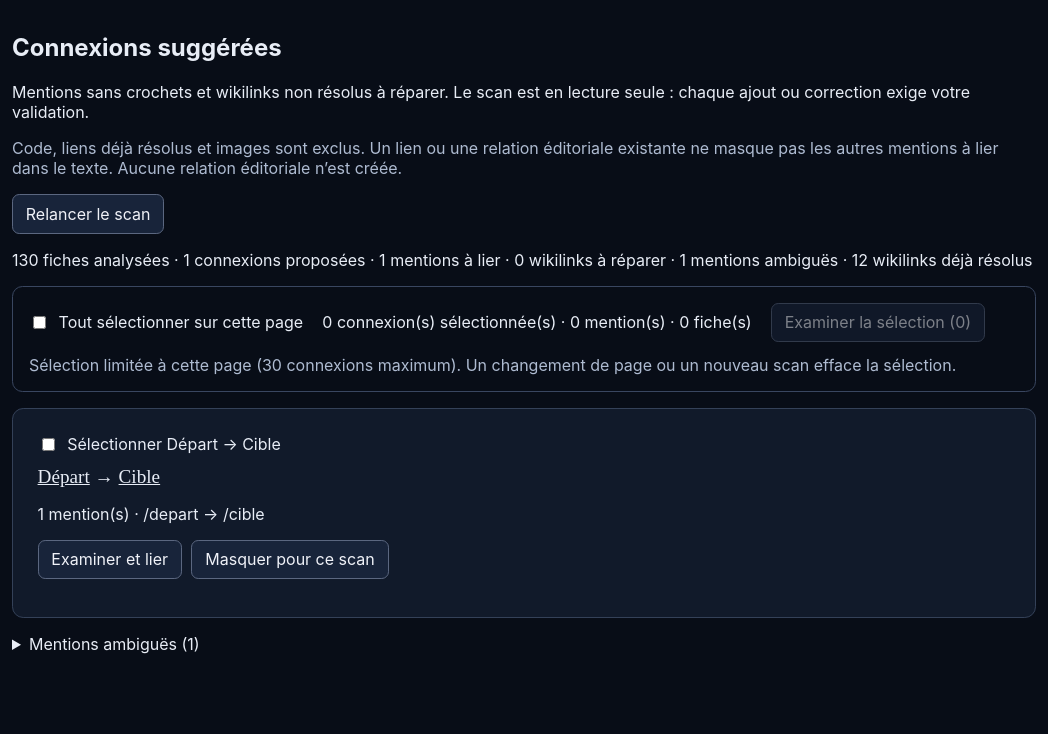
Test: scan des connexions › performs a read-only scan, explains counts and ambiguities, and requires preview plus human confirmation
expect the text "130 fiches analysées" is shown: met, box [12, 250, 1036, 270]
Click the button "Examiner et lier".
click(110, 559)  # box [38, 540, 182, 579]
(page scrolled)
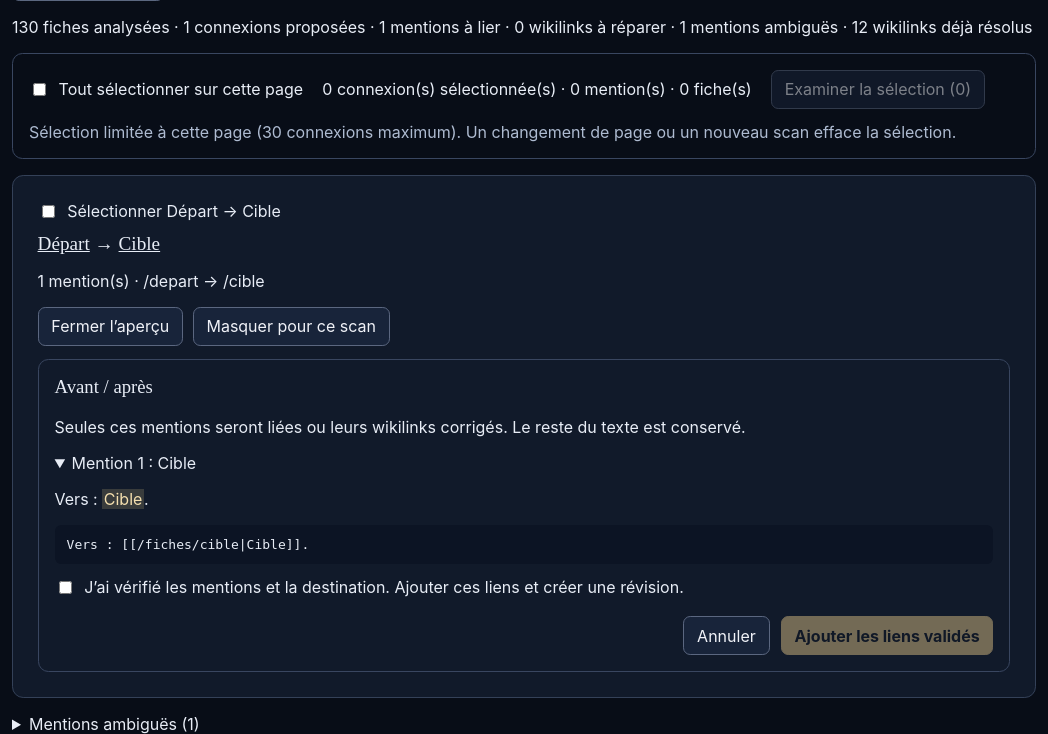
expect the button "Ajouter les liens validés" is disabled: met, box [781, 616, 993, 655]
expect the text "[ [/fiches/cible|Cible]]" is shown: met, box [121, 537, 301, 552]
Click the button "Annuler".
click(726, 636)  # box [683, 616, 770, 655]
(page scrolled)
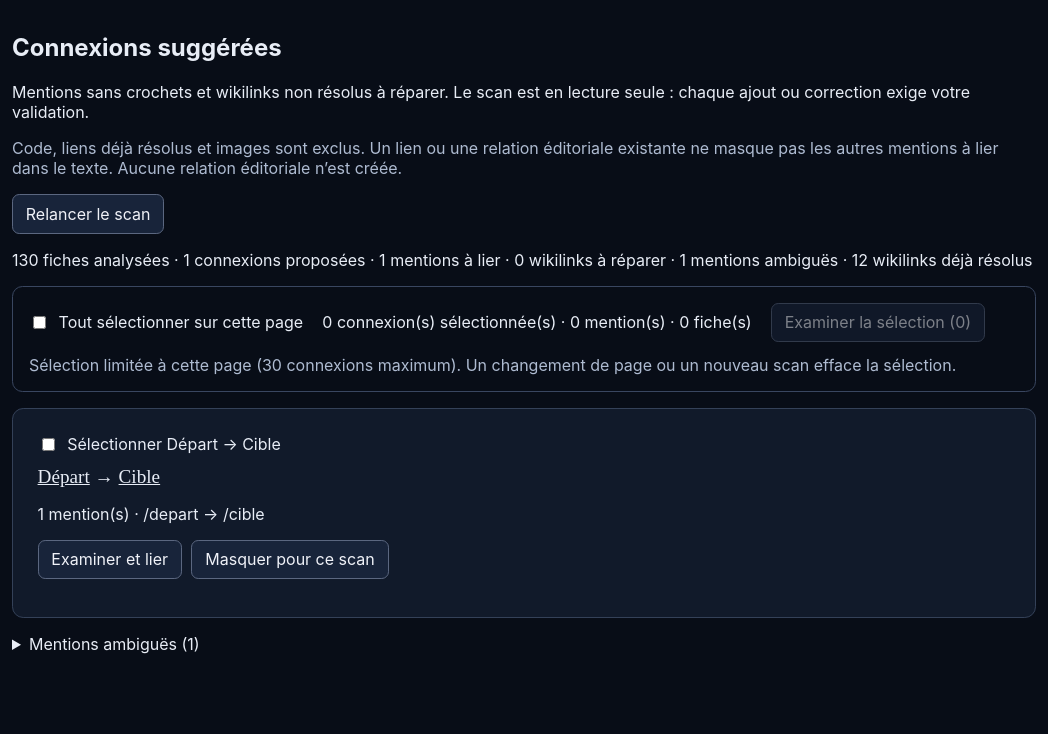
expect the label "J’ai vérifié" is gone: met
